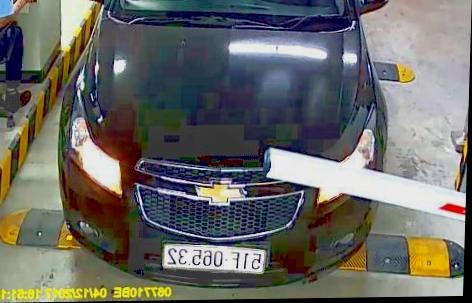License_Plate: (155, 238, 267, 276)
